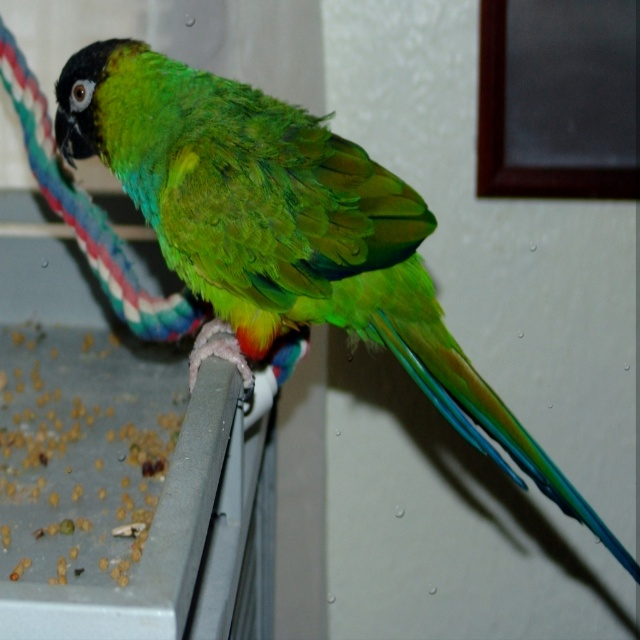Parrot: (52, 35, 640, 585)
